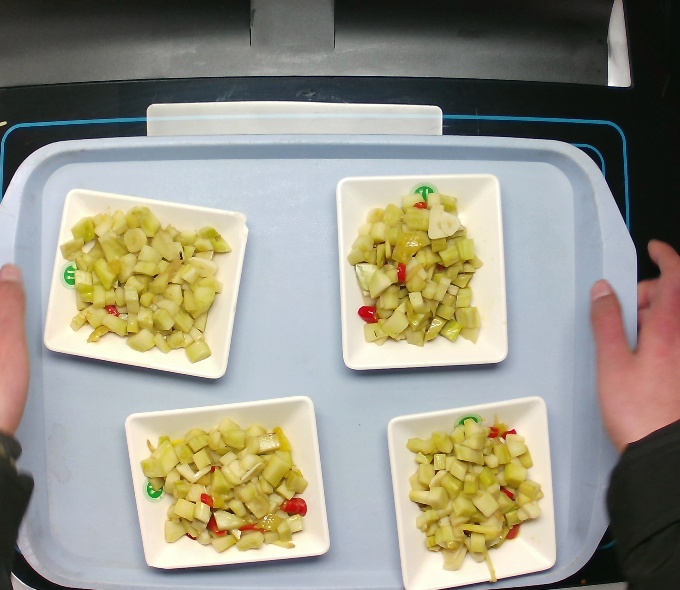wcq-YanHuaCaiGeng: (51, 204, 239, 369), (401, 404, 546, 587), (134, 412, 312, 560), (347, 181, 491, 356)
